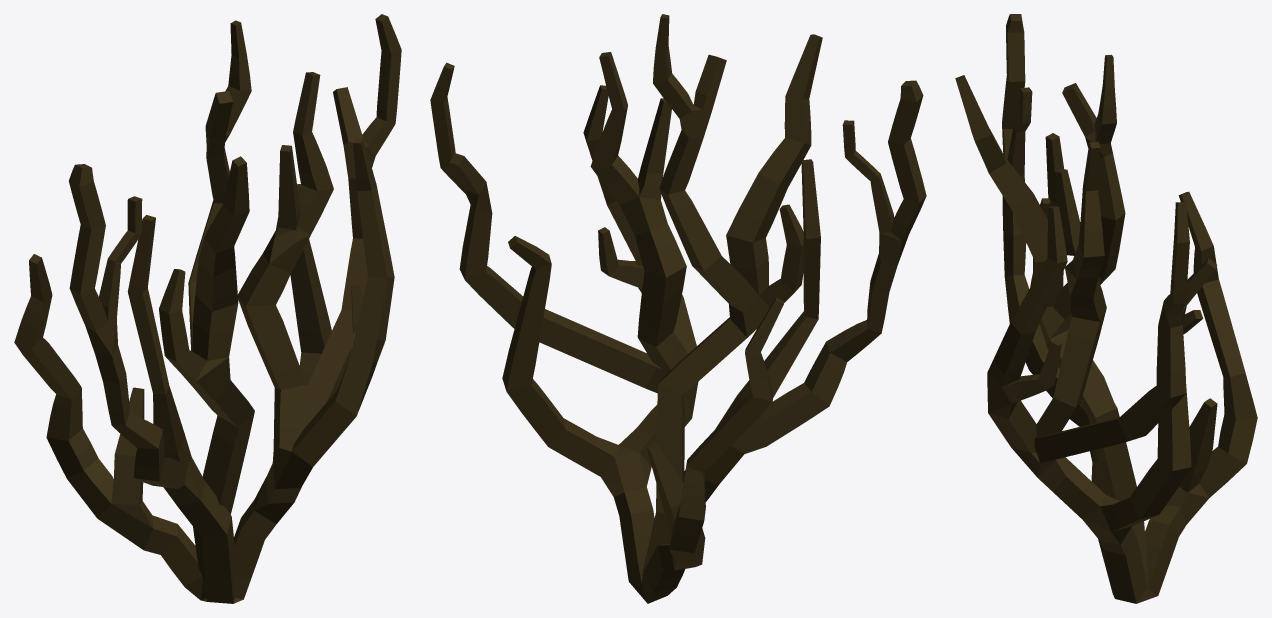
File: dead bush no 2.fbx
The picture shows the model from 3 angles, left to right: view 1: azimuth 30°, elevation 25°; view 2: azimuth 150°, elevation 25°; view 3: azimuth 270°, elevation 25°; orthographic projection. The views are drawn at different scales.
Visible parts, largest first — view 1: Cube.008; view 2: Cube.008; view 3: Cube.008.
Boxes of the visible parts, box(x1,y1,x2,y2) form: Cube.008: box(14, 14, 401, 603); Cube.008: box(430, 14, 926, 603); Cube.008: box(955, 14, 1257, 603).
Bounding box in the file's own units: 149 × 200 × 101.
